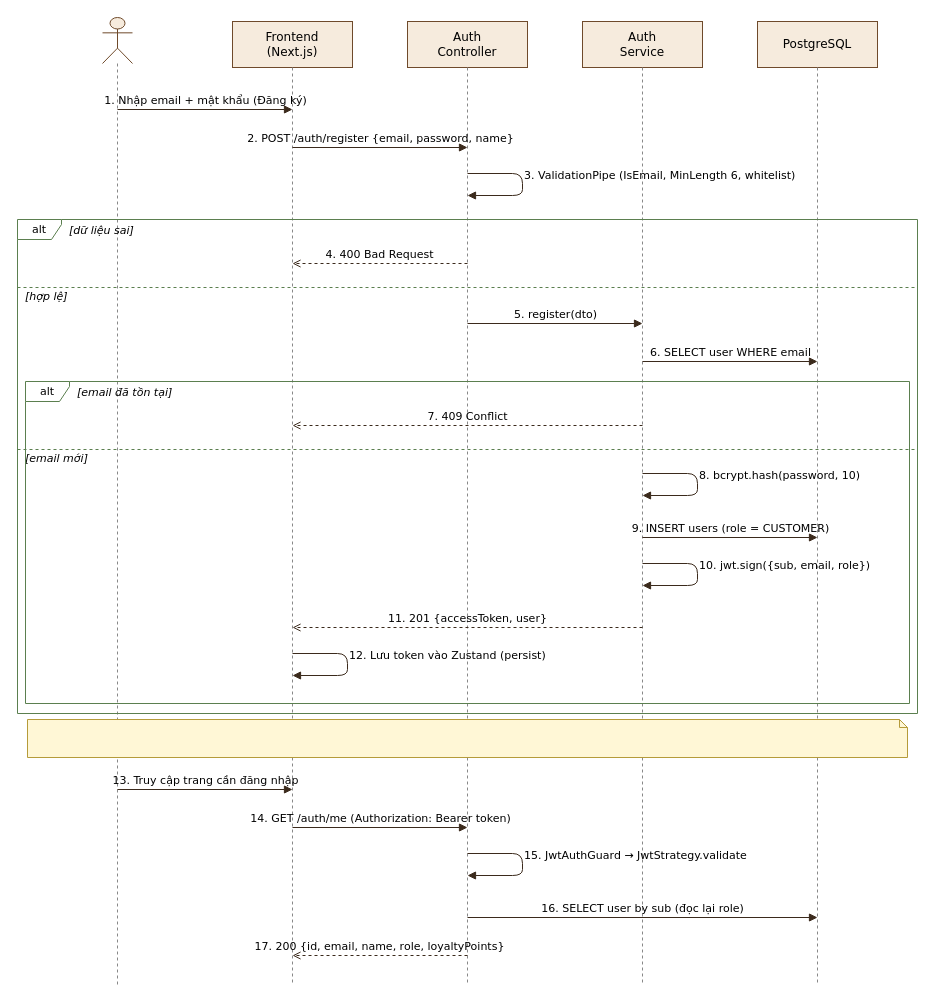
Some shapes in this 936 by 1004 pixel diagram are drawn without their labels. The shapes that lost their labels are listed below. From the top down, each one's box as (x1, y1, x2, y2) in pixels, then its label:
(102, 16, 132, 64): Khách hàng
(26, 718, 908, 758): Đăng nhập tương tự: so khớp bcrypt.compare, sai → 401 Unauthorized
